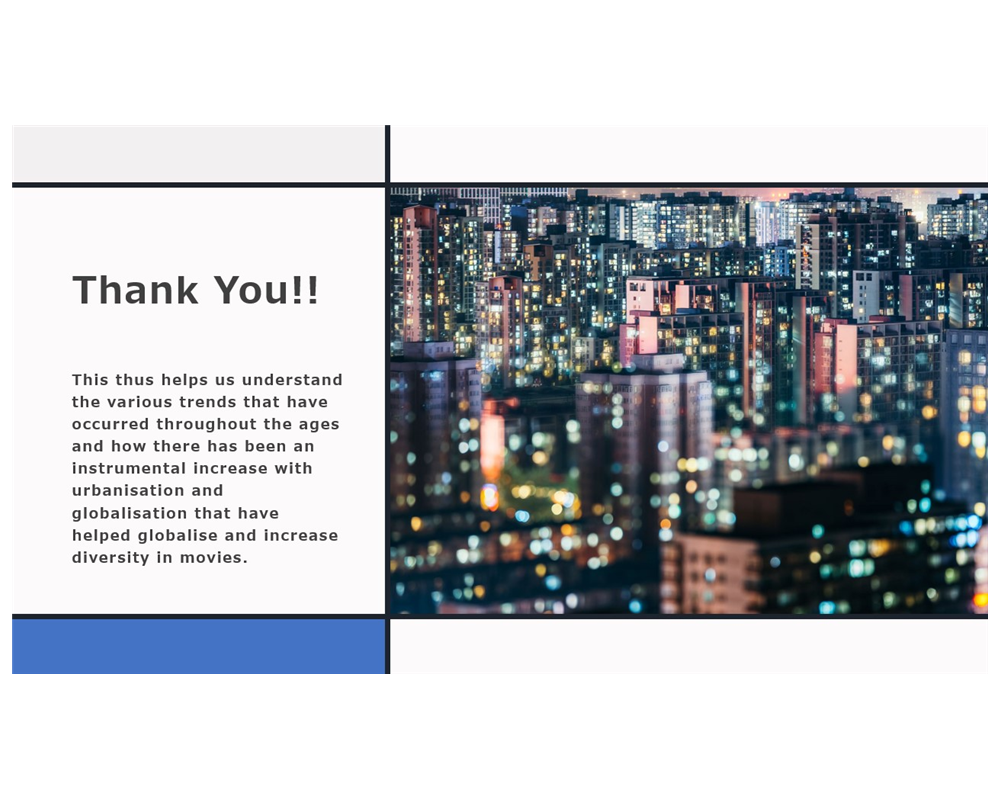

This screenshot's page, from the dashboard's own definition file:
{"tool":"tableau","page":{"name":"Thank You","canvas":[1000,800],"ordinal":9},"visuals":[{"type":"image","param":"C:/Users/WIN/Desktop/Honours/IA/Slide3.jpg","box":[8,8,984,784]}]}

Visuals, with their boxes in screenshot pixels (x1, y1, x2, y2), scaled from the page's 1000x800 canvas onto the 1000x800 screenshot:
image: {"left": 8, "top": 8, "right": 992, "bottom": 792}
